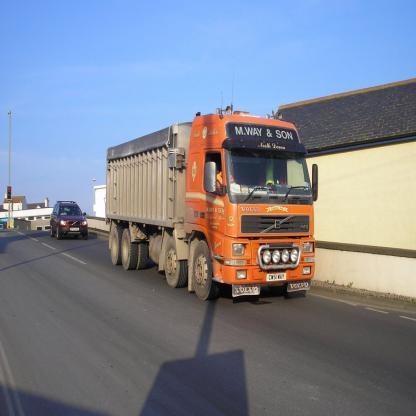Car: (50, 198, 92, 240)
Truck: (96, 98, 319, 299)
